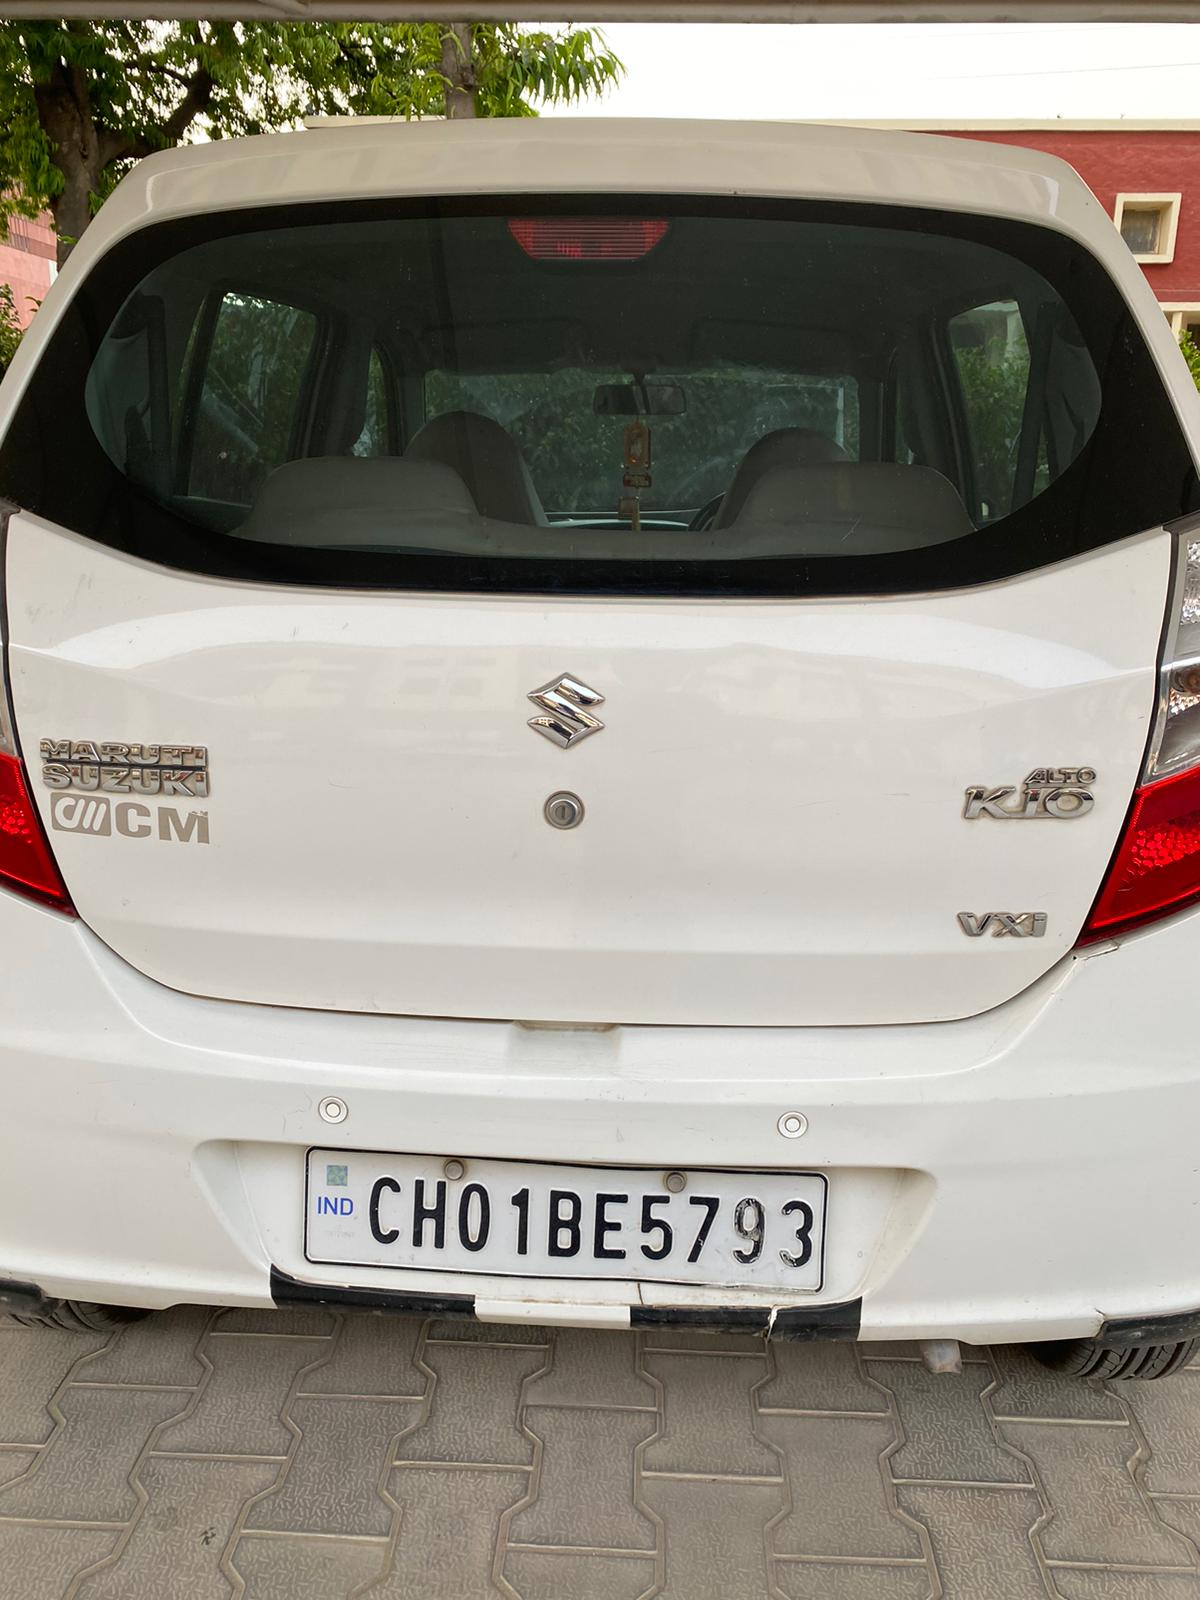license plate: (306, 1149, 825, 1290)
